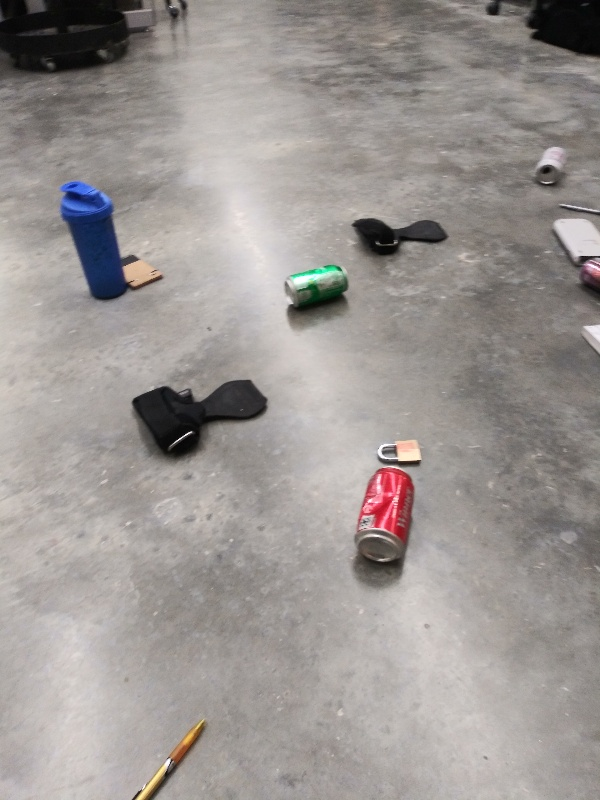can: (353, 463, 420, 569), (279, 258, 352, 311), (532, 144, 574, 189), (572, 254, 600, 292)
